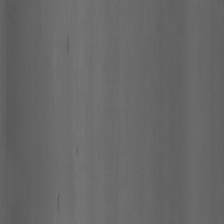water_spot: (52, 177, 63, 213), (61, 34, 74, 60), (69, 135, 82, 159)
